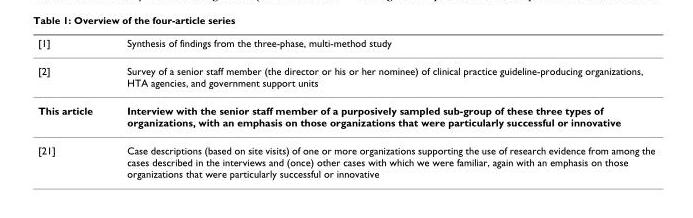table: (37, 36, 654, 179)
table column: (109, 36, 654, 179), (37, 36, 109, 179)
table column header: (37, 36, 654, 56)
table row: (37, 135, 654, 179), (37, 56, 654, 96), (37, 96, 654, 135), (37, 36, 654, 56)
